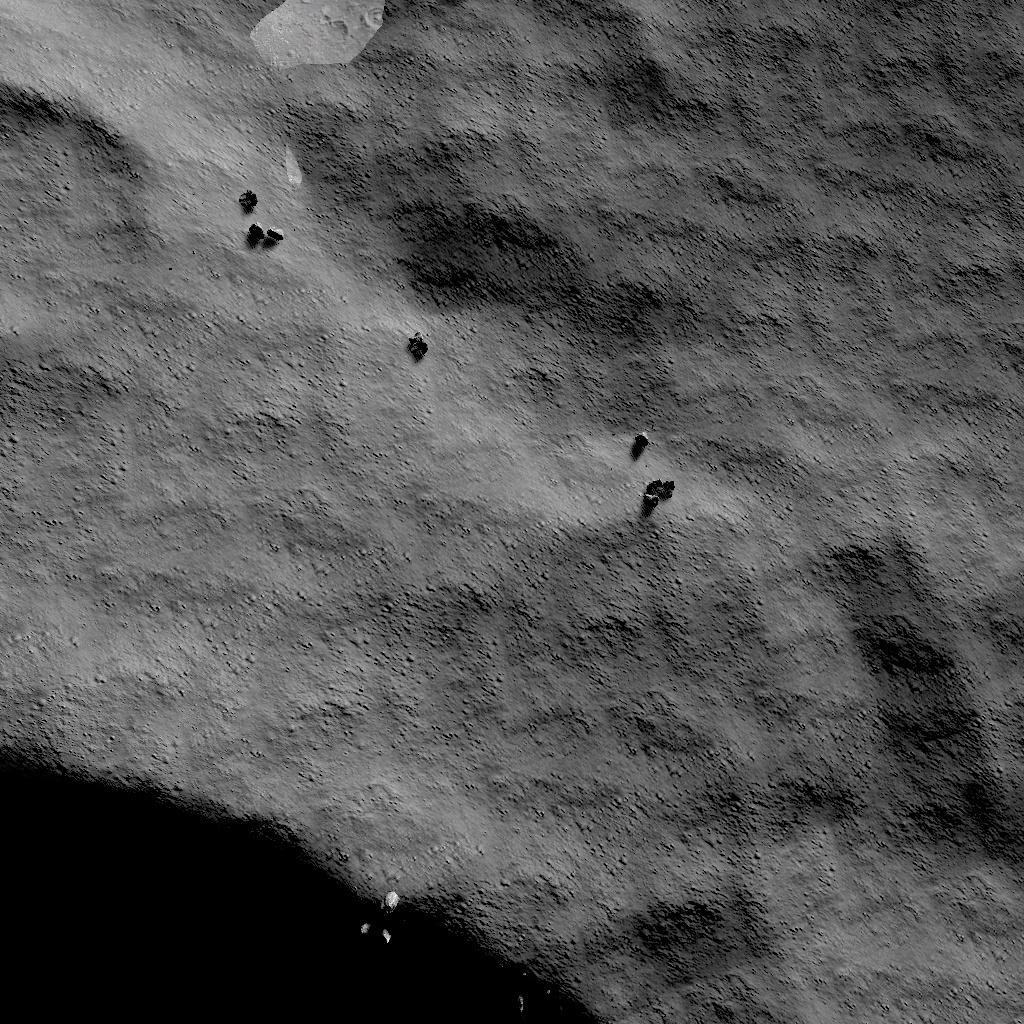Boulders: (250, 0, 392, 86)
Crater: (0, 688, 637, 1024), (0, 72, 200, 380)
Plan surface: (681, 380, 1024, 1024), (447, 0, 1024, 366), (3, 388, 620, 665)
